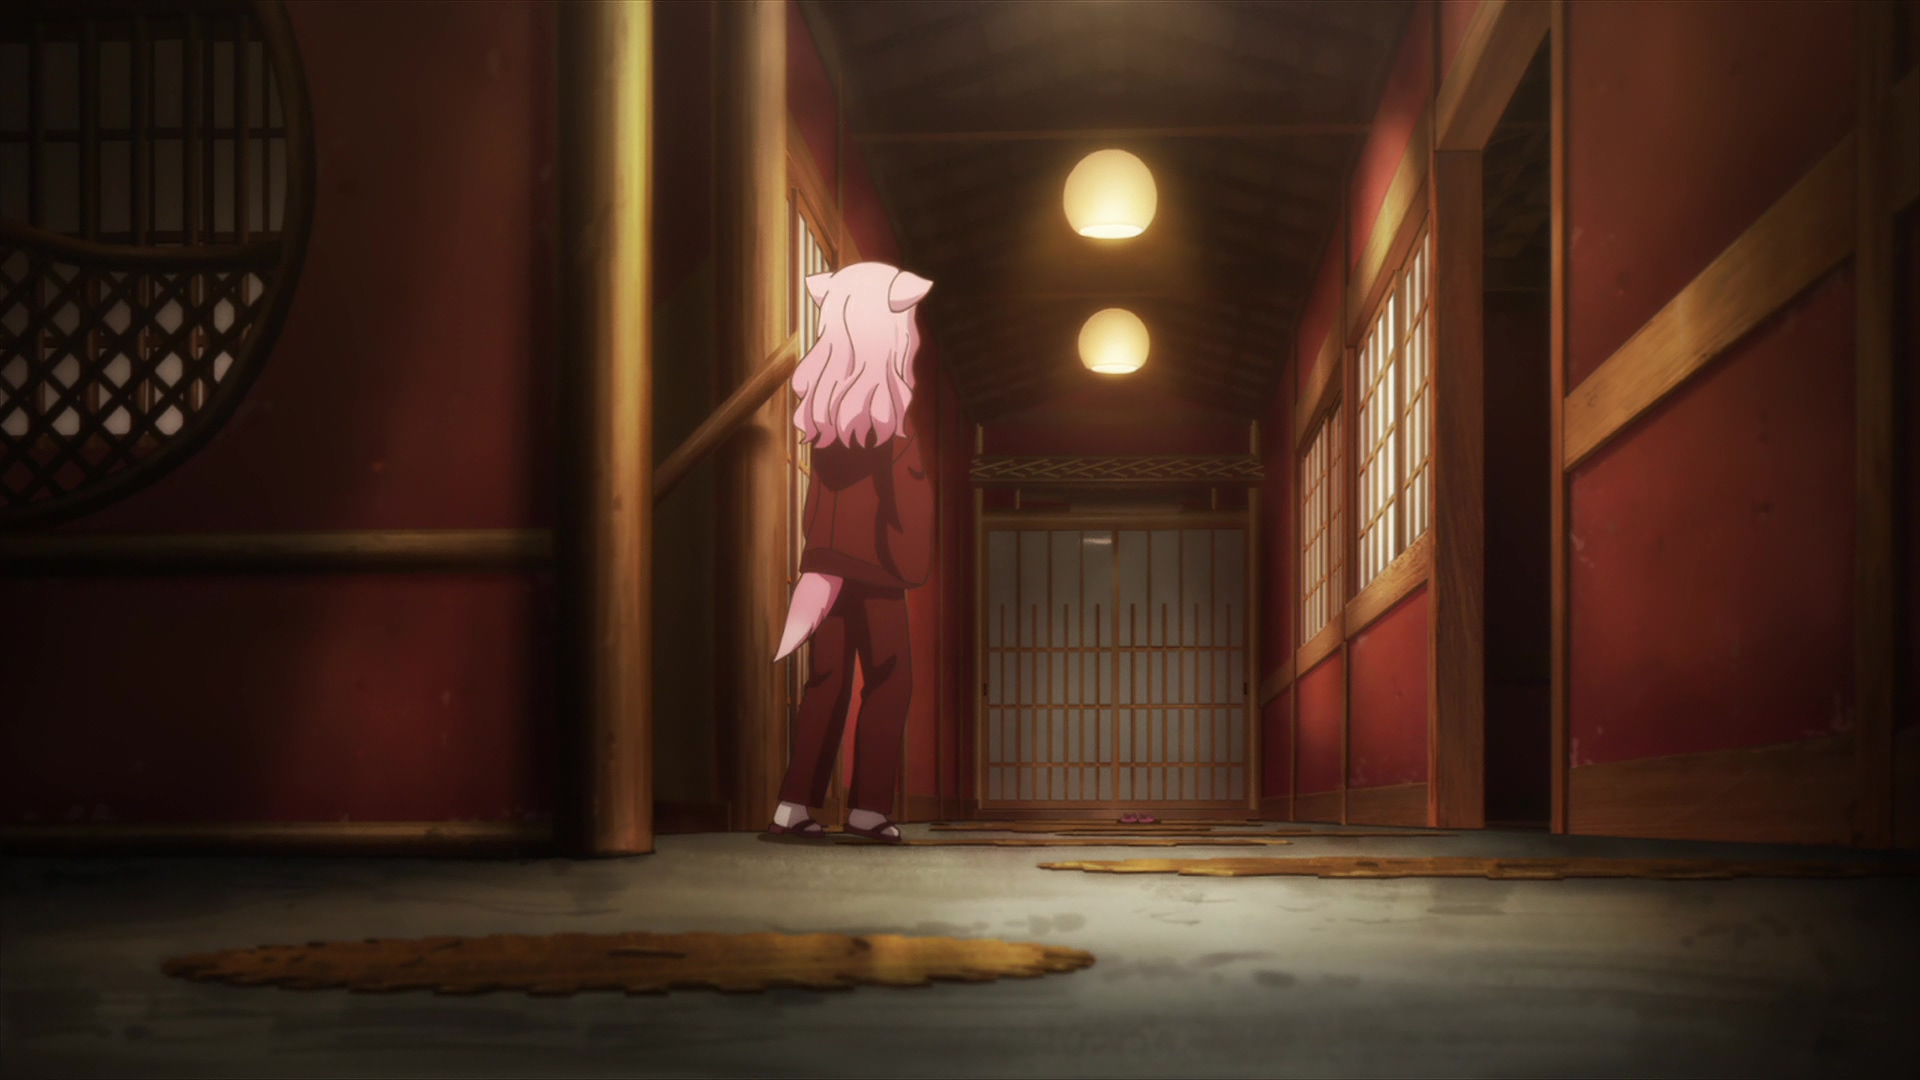莲: (761, 262, 934, 844)
